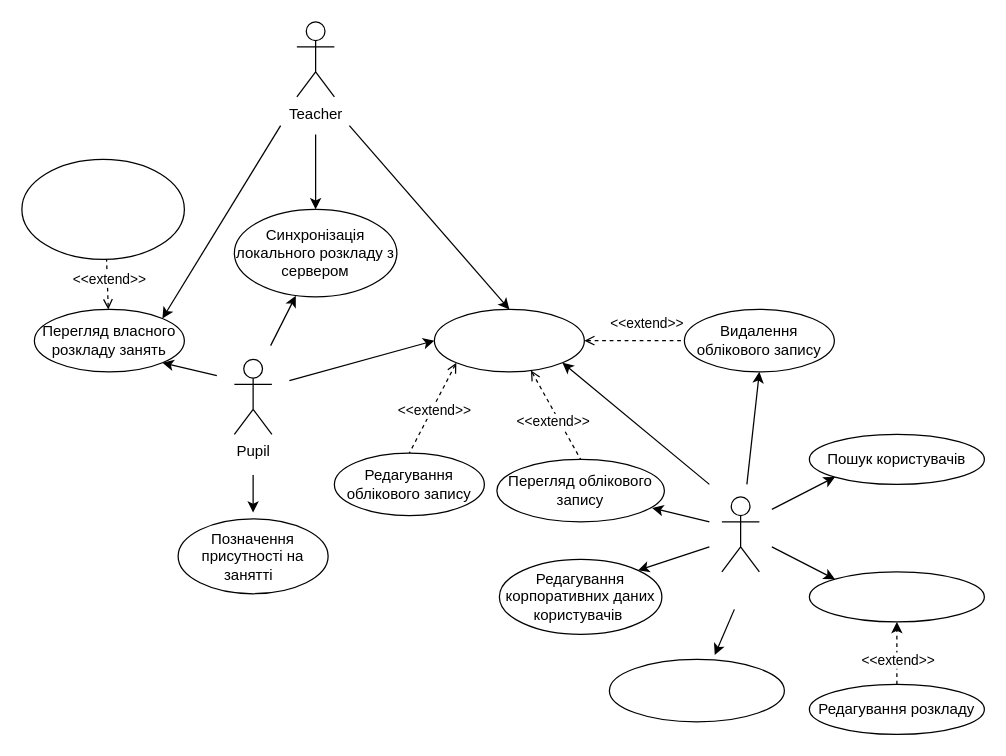
Some shapes in this 1006 by 756 pixel diagram are drawn without their labels. The shapes that lost their labels are listed below. From the top down, each one's centre as x and y in pixels, then its label:
At (x=102, y=208): "Перегляд детальної інформації про обране заняття".
At (x=508, y=340): "Створення облікового запису".
At (x=740, y=534): "Dispatcher".
At (x=896, y=596): "Будування розкладу".
At (x=696, y=690): "Перегляд розкладу кожної групи".
